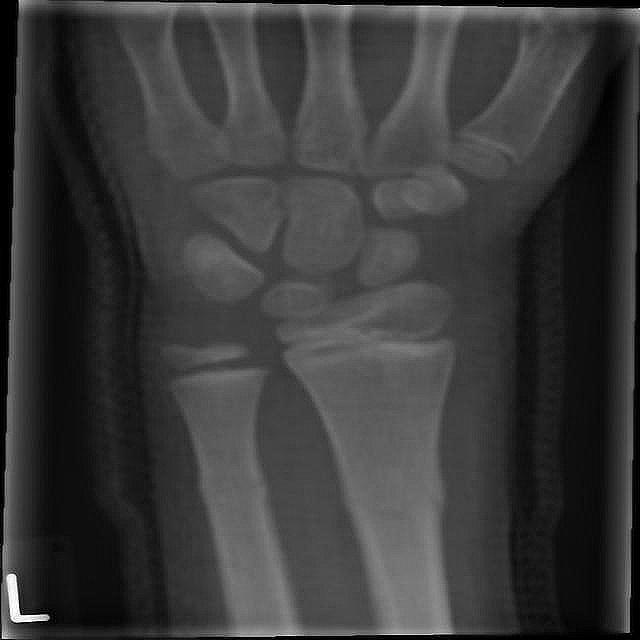bone: (336, 468, 451, 532), (194, 465, 273, 511)
